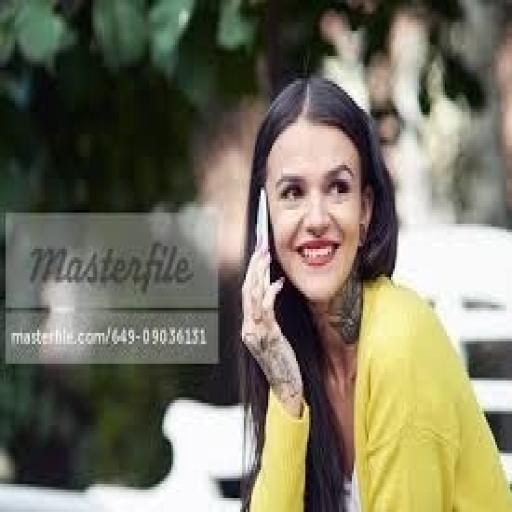texting: (235, 73, 508, 509)
